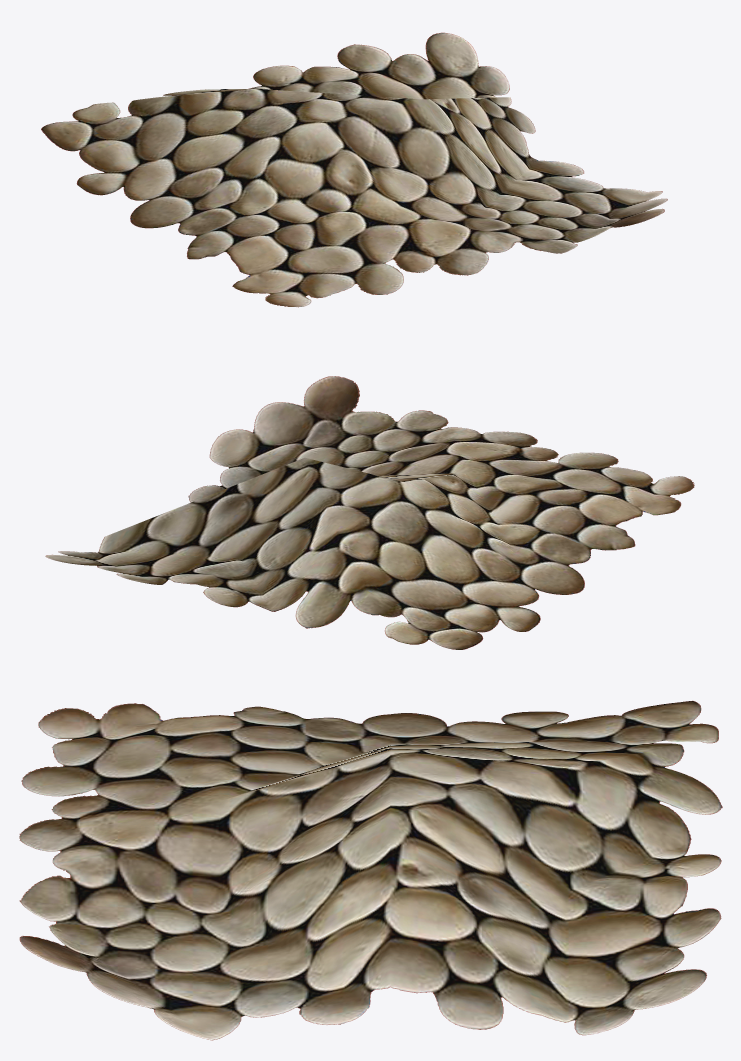
Rendered from stonefloor.fbx.
3 views of the same model, one above another, from view 1: azimuth 30°, elevation 25°; view 2: azimuth 150°, elevation 25°; view 3: azimuth 270°, elevation 25° (orthographic). The views are drawn at different scales.
Parts seen in each view (by area): view 1: pPlane805; view 2: pPlane805; view 3: pPlane805.
Part boxes in pixels (x1,y1,x2,y2): pPlane805: (41,32,667,307); pPlane805: (45,376,694,649); pPlane805: (19,700,722,1040).
Bounding box in the file's own units: 82.66 × 14.92 × 82.66.
